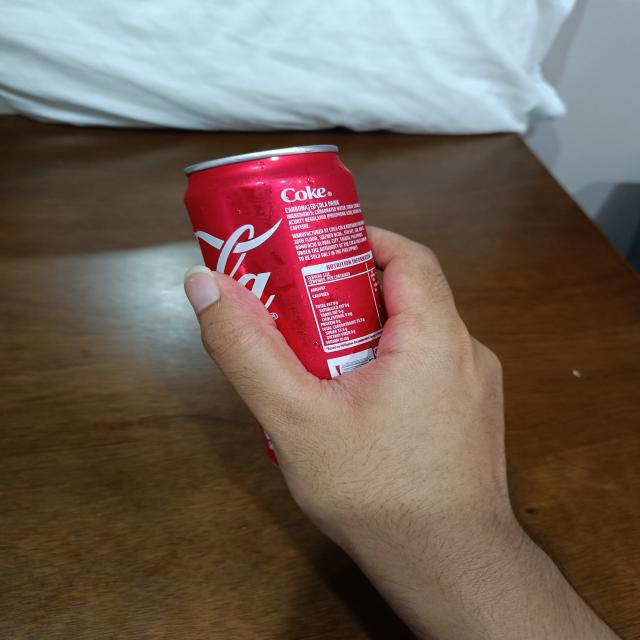coke: (183, 144, 394, 423)
